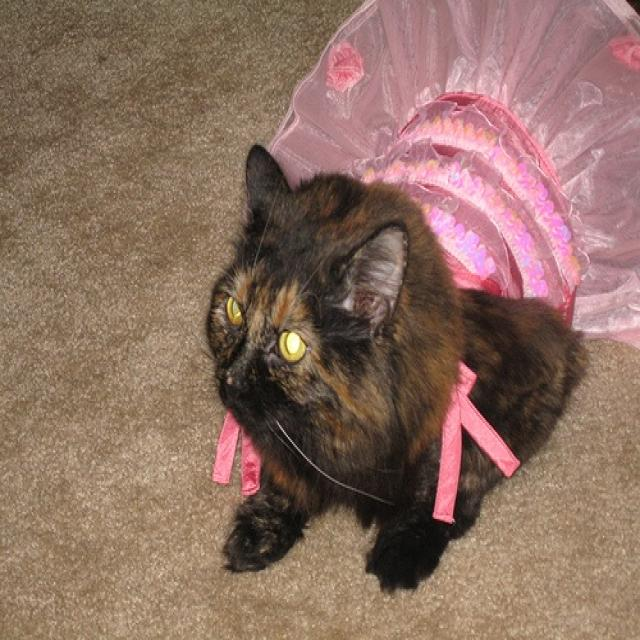cat: (203, 140, 589, 590)
